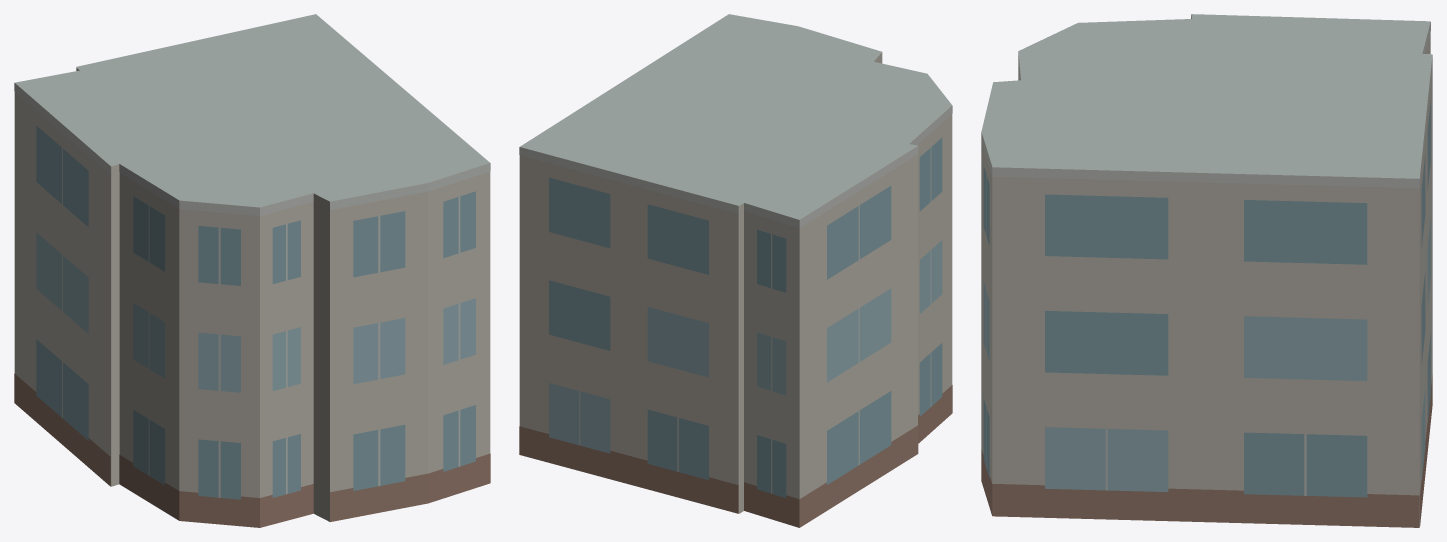
File: survey-upis-33044750.glb
The picture shows the model from 3 angles, left to right: view 1: azimuth 30°, elevation 25°; view 2: azimuth 150°, elevation 25°; view 3: azimuth 270°, elevation 25°; orthographic projection. The views are drawn at different scales.
Visible parts, largest first — view 1: survey-upis-33044750.tmp; view 2: survey-upis-33044750.tmp; view 3: survey-upis-33044750.tmp.
Boxes of the visible parts, box(x1,y1,x2,y2) form: survey-upis-33044750.tmp: box(14, 14, 490, 527); survey-upis-33044750.tmp: box(519, 14, 952, 527); survey-upis-33044750.tmp: box(981, 14, 1432, 527).
Size of the model in its own units: 9.28 by 9.15 by 10.73.
